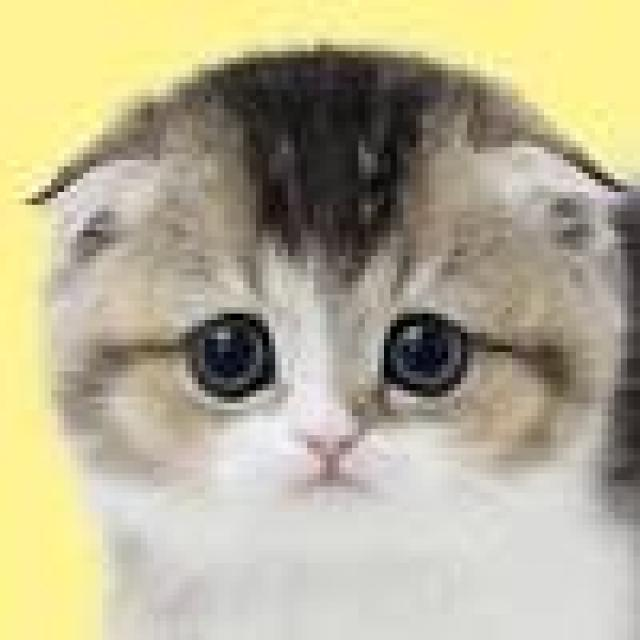cat-face: (36, 39, 625, 614)
